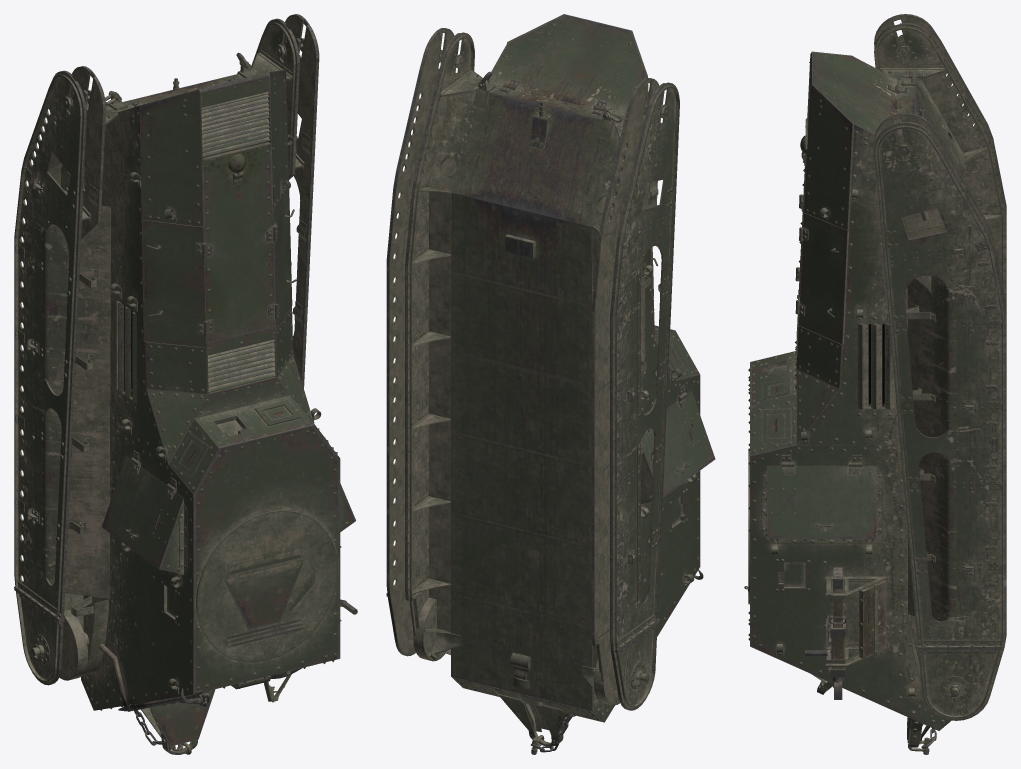
The model's file is Hull.glb.
3 renders of one model, left to right at view 1: azimuth 30°, elevation 25°; view 2: azimuth 150°, elevation 25°; view 3: azimuth 270°, elevation 25°, orthographic. The views are drawn at different scales.
Parts seen in each view (by area): view 1: set_0_group_0; view 2: set_0_group_0; view 3: set_0_group_0.
Boxes of the visible parts, x1,y1,x2,y2 form: set_0_group_0: (14, 14, 357, 754); set_0_group_0: (386, 14, 715, 754); set_0_group_0: (744, 14, 1006, 754).
Size of the model in its own units: 2.16 by 5.84 by 2.03.
1 material, 1 textured.
